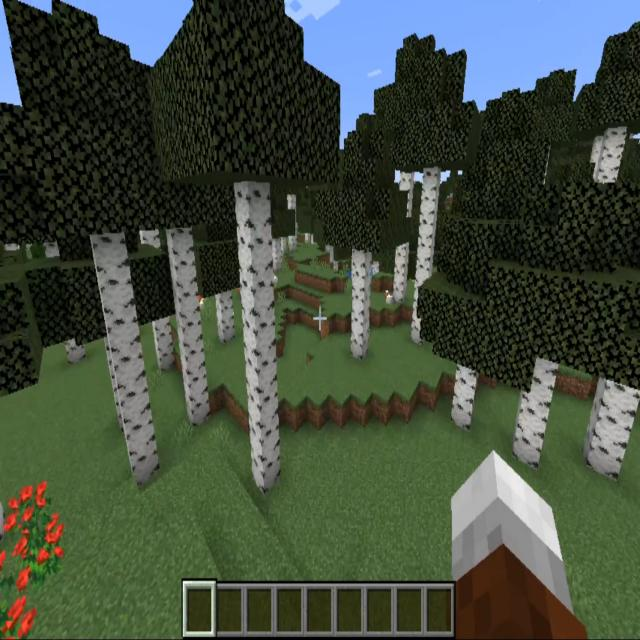Chicken: (384, 290, 395, 308)
